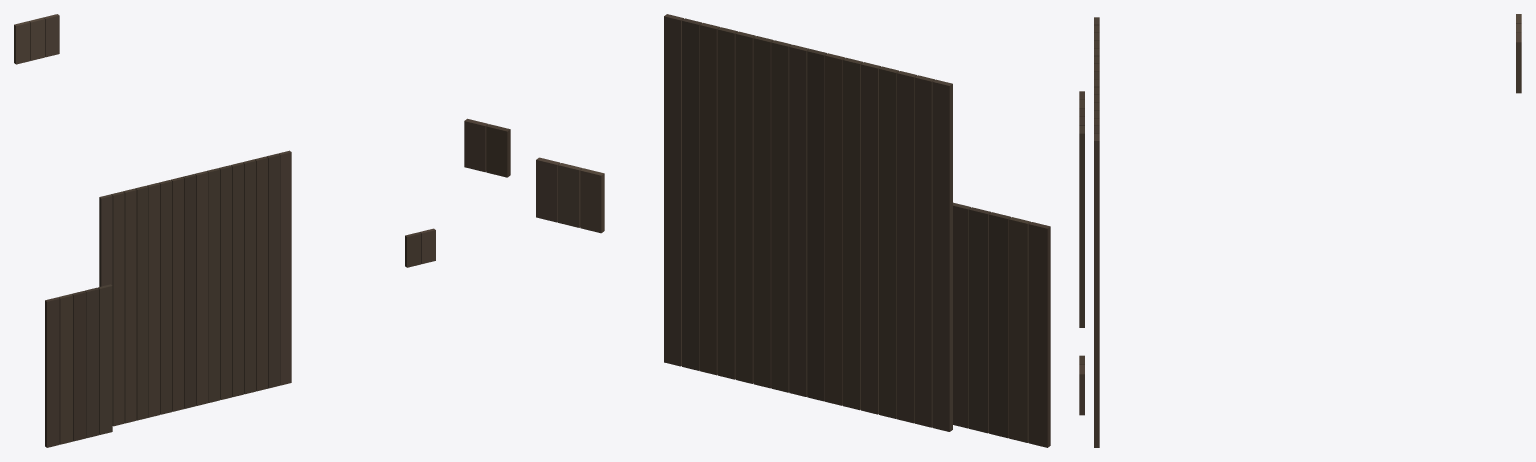
Rendered from SM_Bld_002_Wood.glb.
3 views of the same model, side by side, from view 1: azimuth 30°, elevation 25°; view 2: azimuth 150°, elevation 25°; view 3: azimuth 270°, elevation 25° (orthographic). The views are drawn at different scales.
Parts seen in each view (by area): view 1: SM_Bld_002_Wood; view 2: SM_Bld_002_Wood; view 3: SM_Bld_002_Wood.
Part boxes in pixels (x1=…): SM_Bld_002_Wood: x1=14, y1=14, x2=435, y2=447; SM_Bld_002_Wood: x1=464, y1=14, x2=1050, y2=447; SM_Bld_002_Wood: x1=1079, y1=14, x2=1521, y2=447.
Size of the model in its own units: 5.29 by 3.5 by 3.92.
